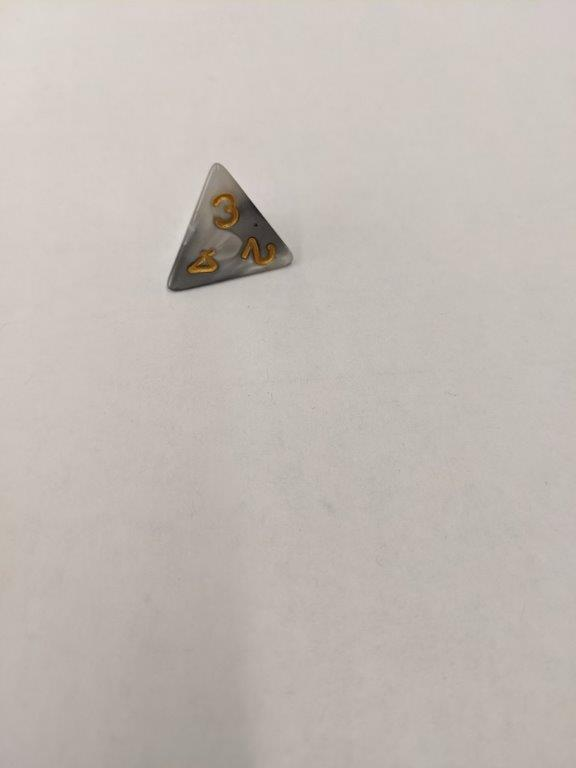d4-3: (162, 161, 295, 296)
